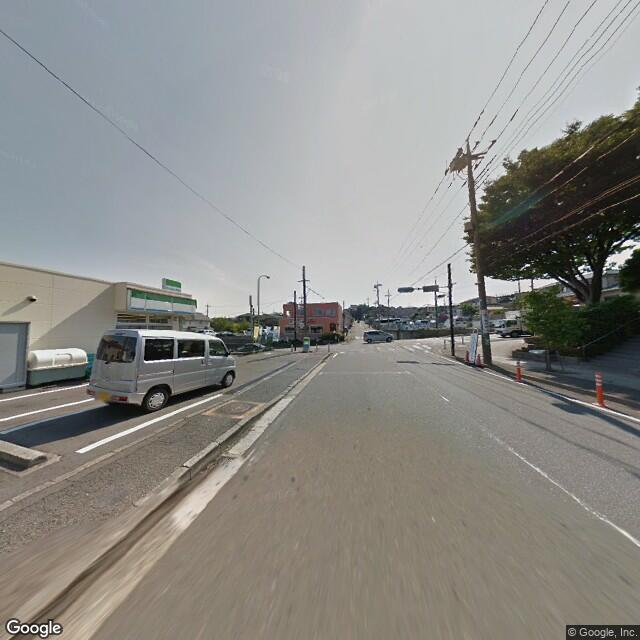family_mart: (129, 286, 197, 315)
